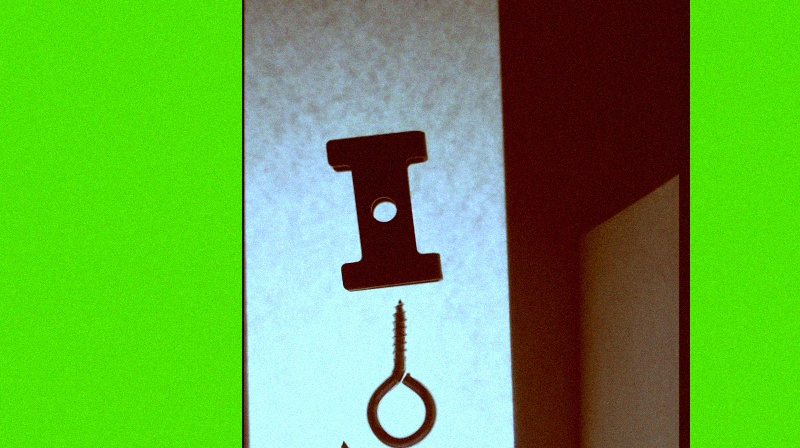O001: (366, 297, 436, 447)
O002: (325, 128, 443, 291)
S001: (338, 441, 413, 447)
